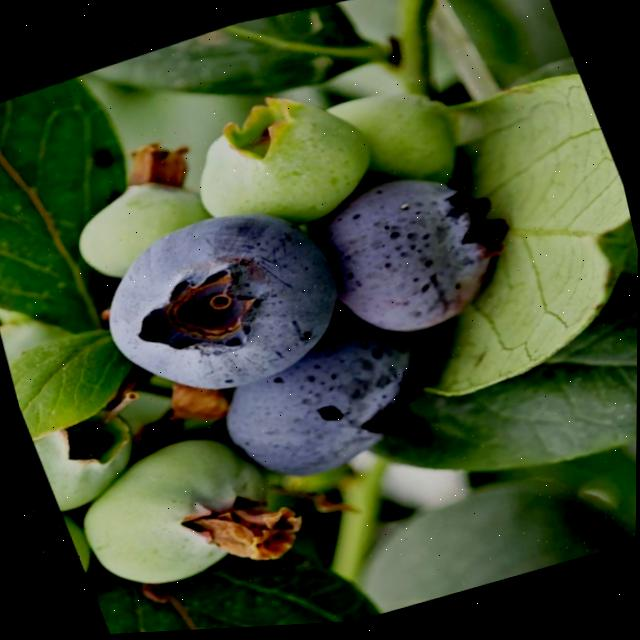RipeBlueBerry: (66, 159, 372, 443), (191, 270, 457, 516), (297, 134, 524, 367)
UnripeBlueBerry: (46, 397, 299, 628), (163, 60, 394, 264)
